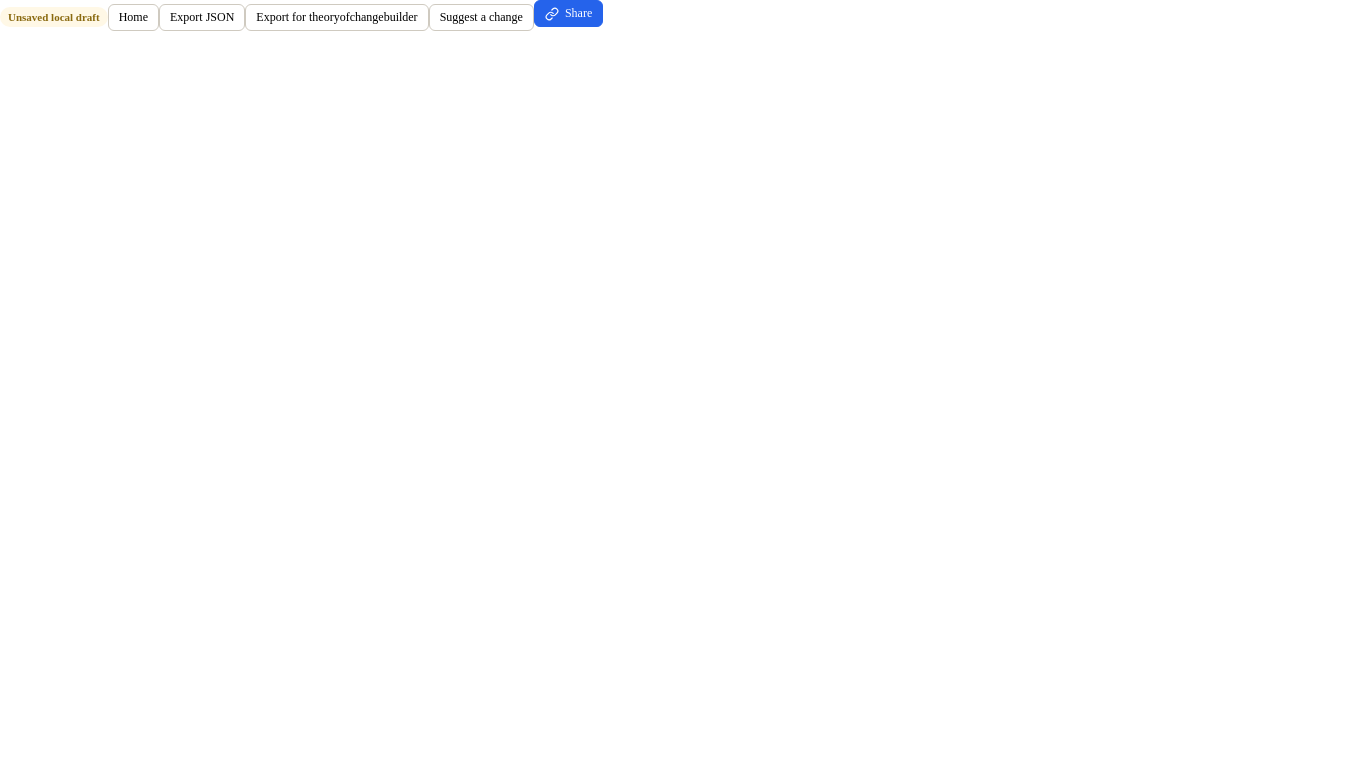
Test: the Suggest a change dialog › keeps edits and words after a failed send, and the server sentence is shown
The width and height of the screenshot is (1366, 768).
Click the button "Suggest a change": {"x": 481, "y": 17} x1=429 y1=4 x2=534 y2=30
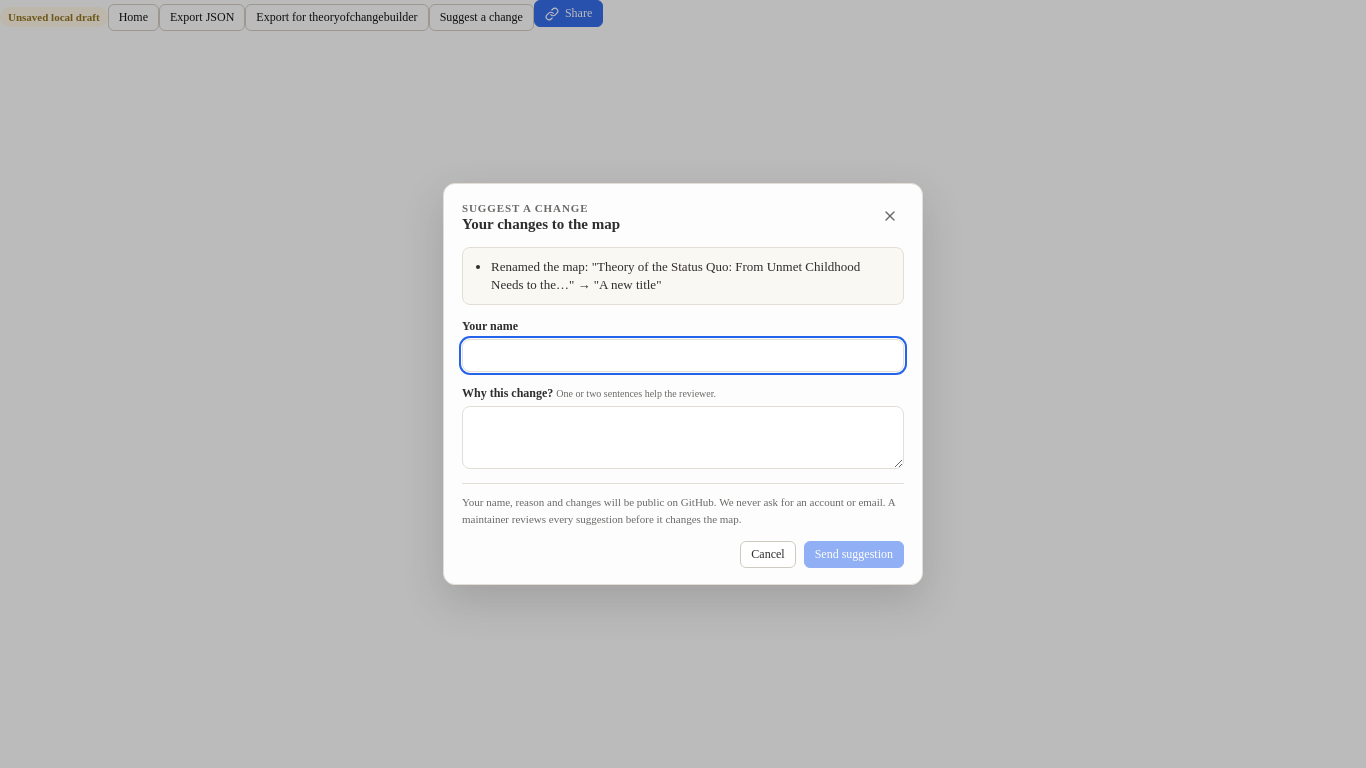
In the field labelled "Your name": {"x": 683, "y": 356} x1=462 y1=339 x2=904 y2=372, type "Dana"
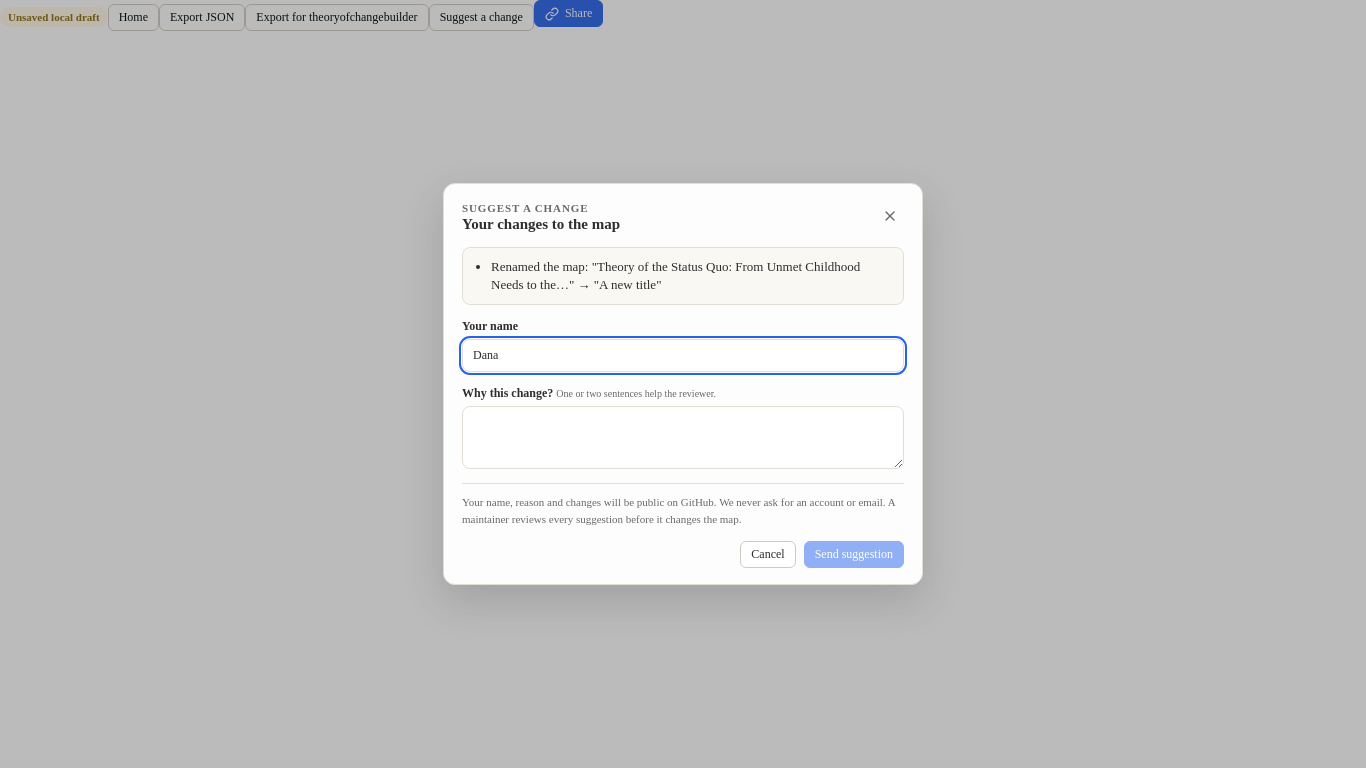
In the text box labelled "Why this change? One or two sentences help the reviewer.": {"x": 683, "y": 438} x1=462 y1=406 x2=904 y2=469, type "Because"
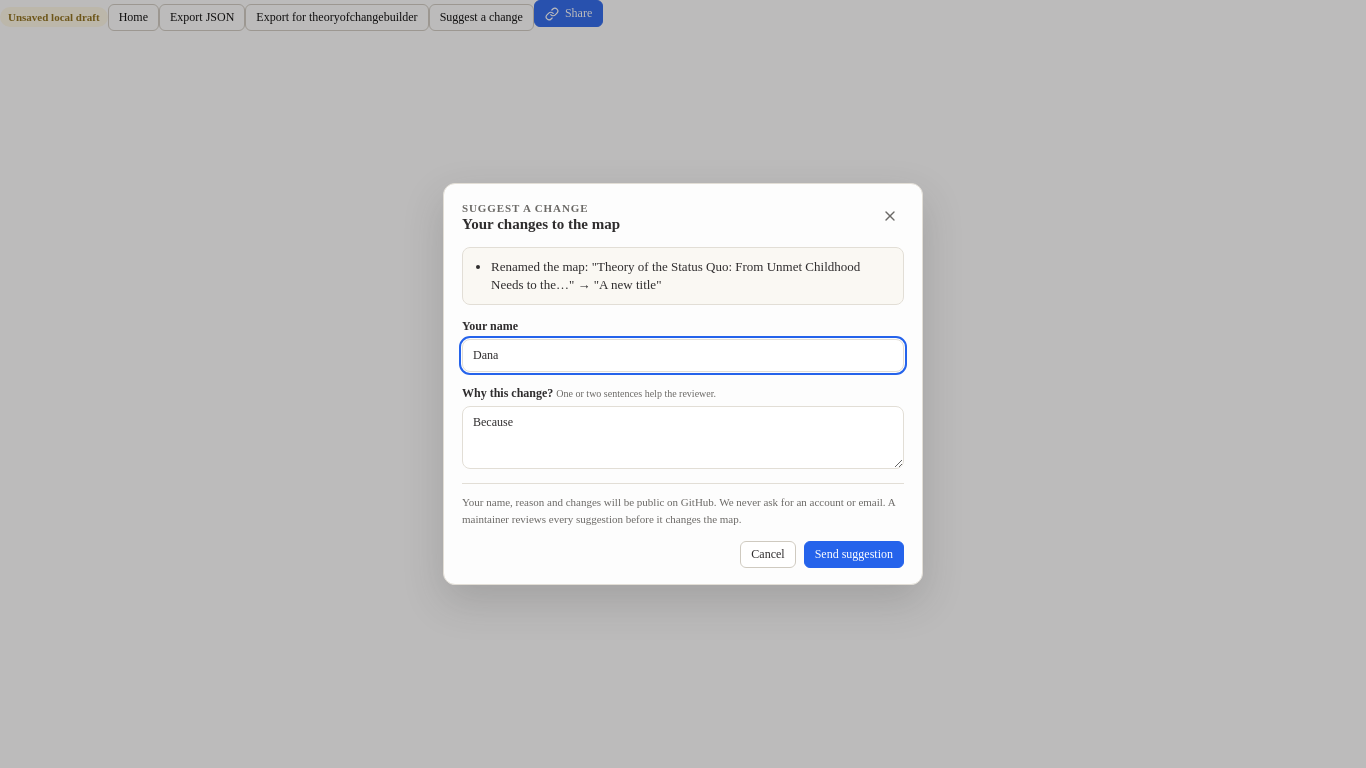
Click the button "Send suggestion": {"x": 854, "y": 555} x1=804 y1=541 x2=904 y2=568
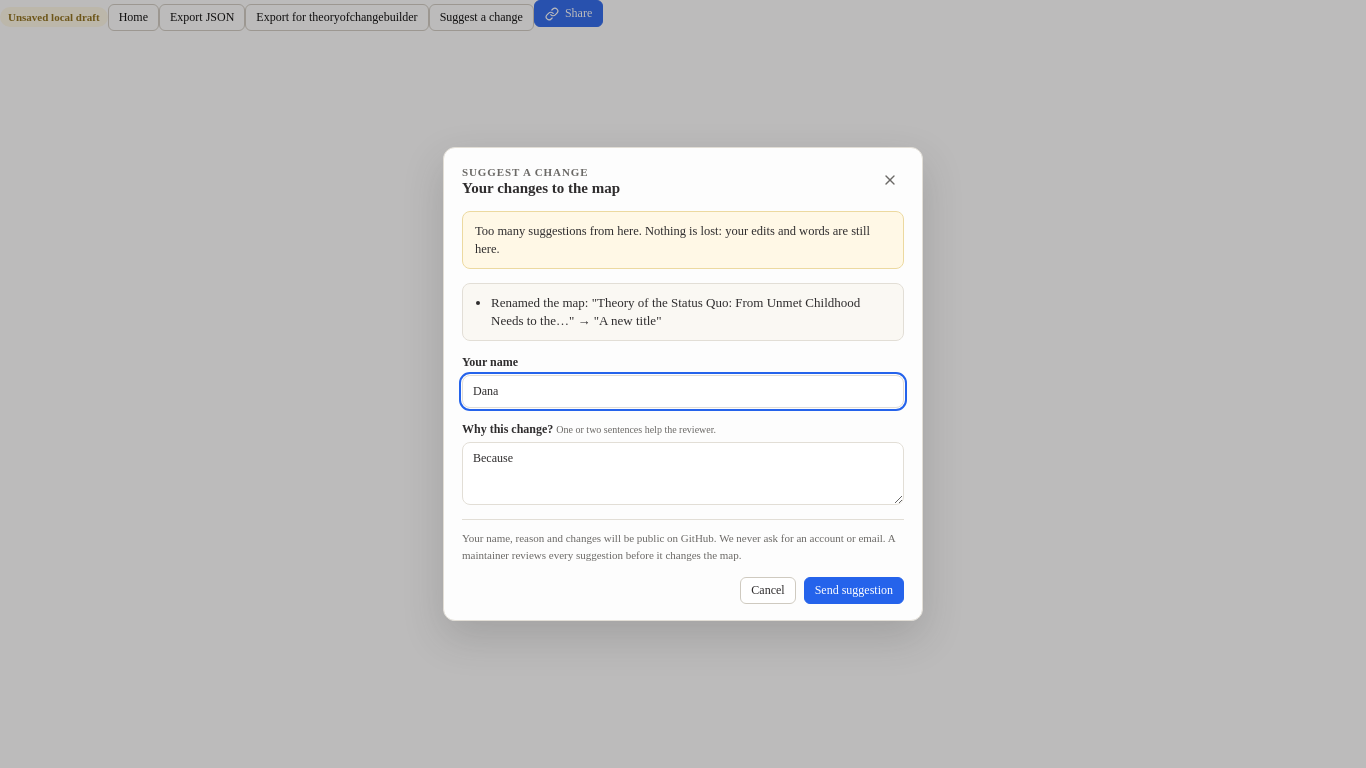
Expected: the message shows "Too many suggestions from here.", x1=475 y1=224 x2=642 y2=238
